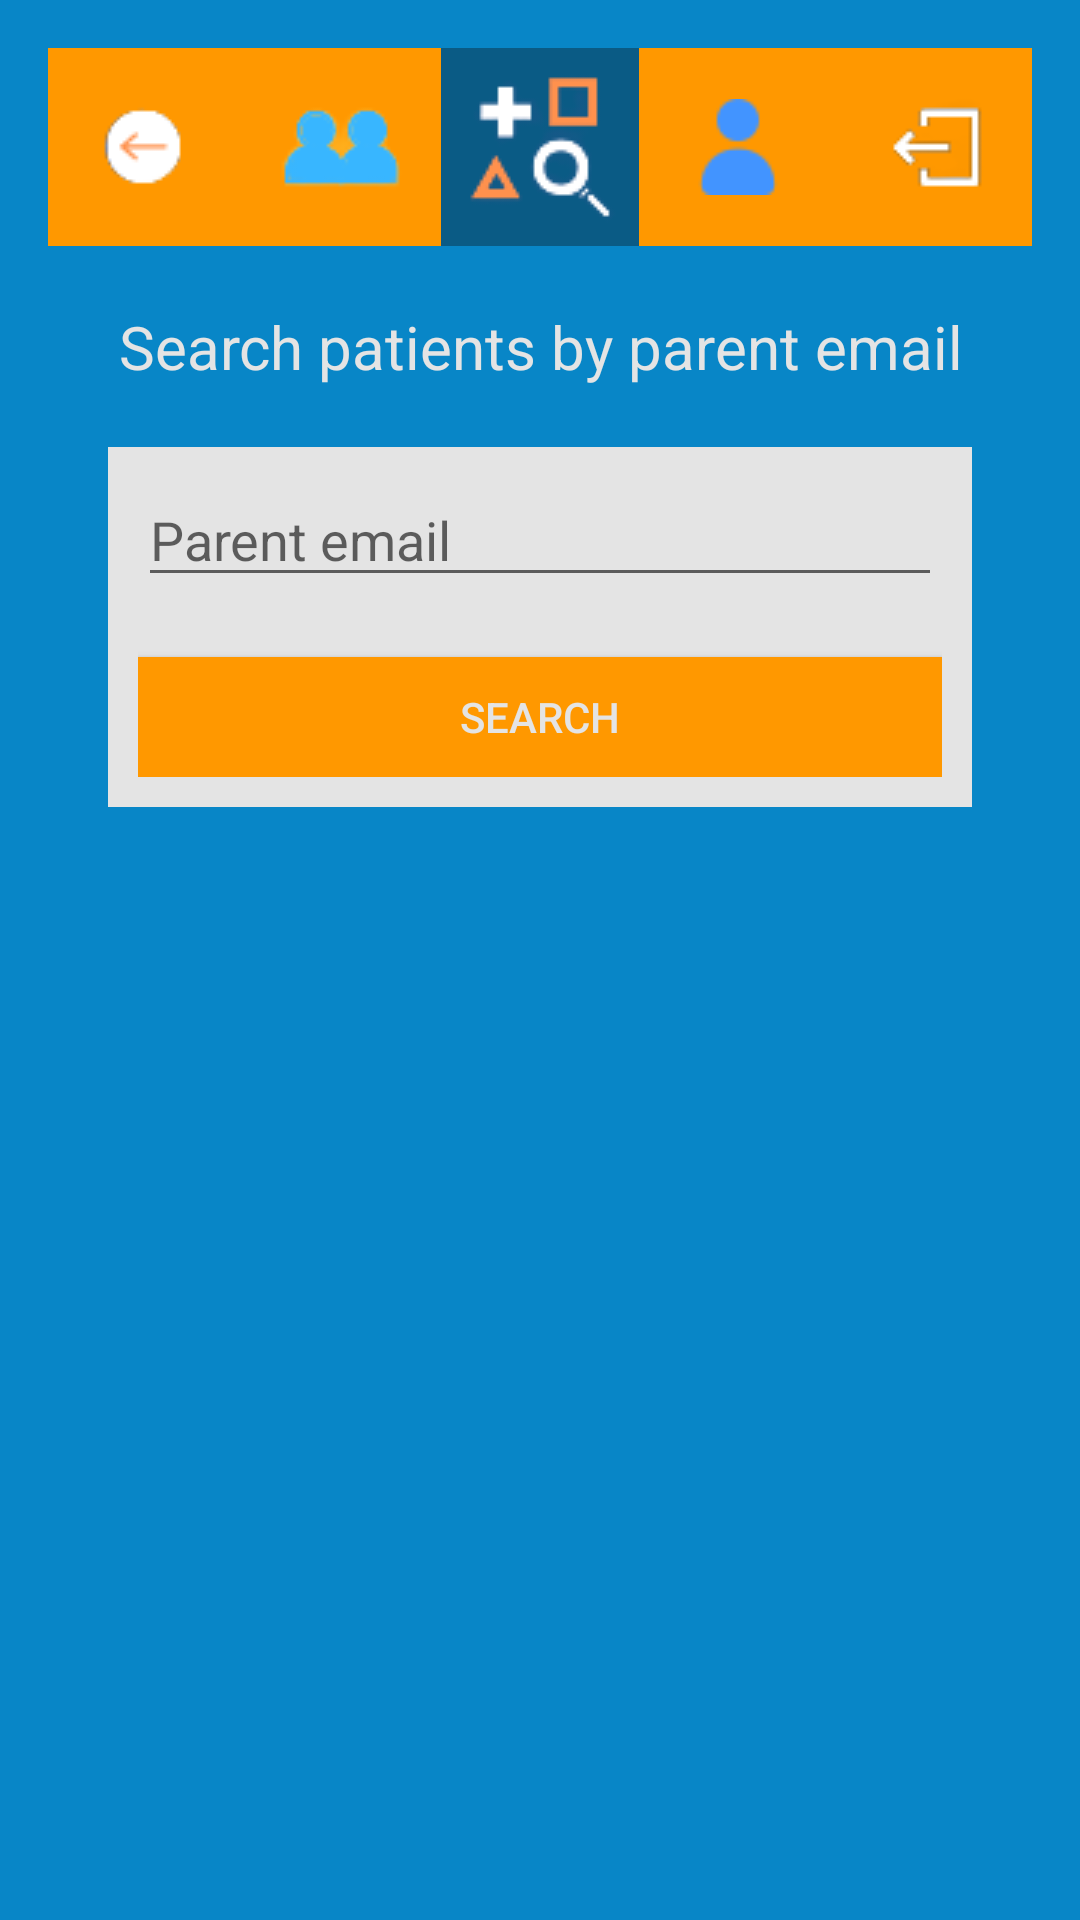

Icons on this 1080×1920 Android screen, each with the point to tap as (x,y):
button profile description: (738,147)
profiles button: (342,147)
